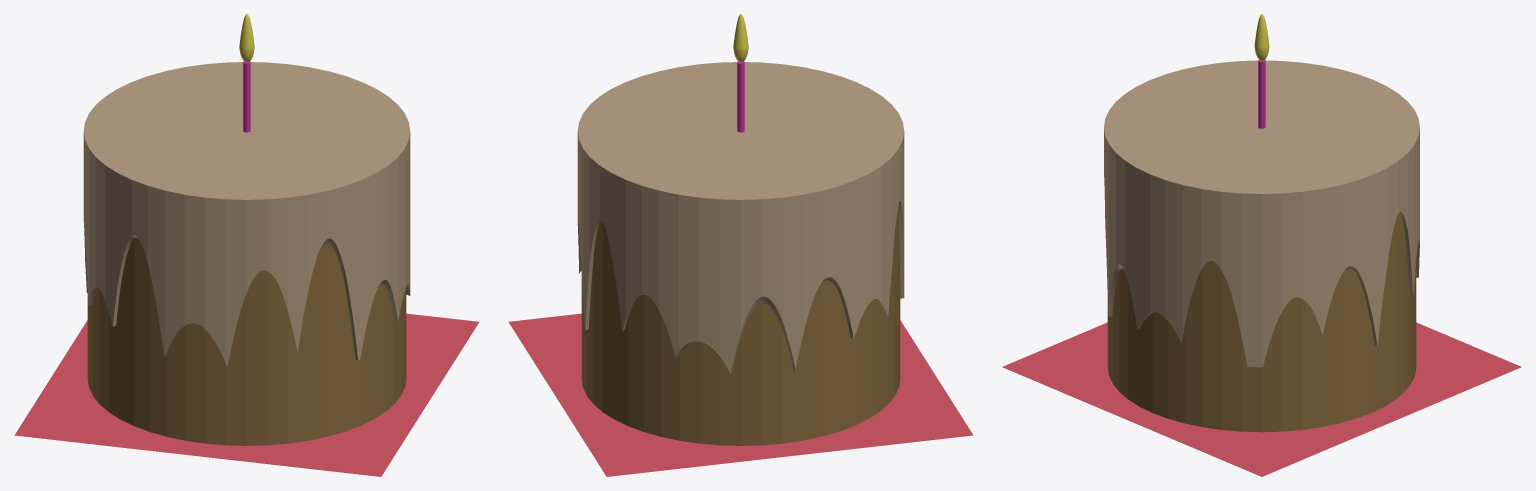
File: chocolate.glb
3 views of the same model, side by side, from view 1: azimuth 30°, elevation 25°; view 2: azimuth 150°, elevation 25°; view 3: azimuth 270°, elevation 25° (orthographic). The views are drawn at different scales.
Parts seen in each view (by area): view 1: Mesh_Mesh_head_geo.001_lambert2SG.001; view 2: Mesh_Mesh_head_geo.001_lambert2SG.001; view 3: Mesh_Mesh_head_geo.001_lambert2SG.001.
Boxes of the visible parts, x1,y1,x2,y2 form: Mesh_Mesh_head_geo.001_lambert2SG.001: (14, 14, 479, 476); Mesh_Mesh_head_geo.001_lambert2SG.001: (508, 14, 973, 476); Mesh_Mesh_head_geo.001_lambert2SG.001: (1002, 14, 1521, 476).
Size of the model in its own units: 0.0354 by 0.0265 by 0.0354.
